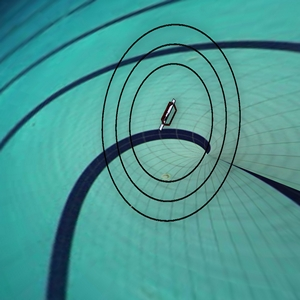circle: (95, 14, 268, 232)
submarine: (151, 92, 187, 138)
